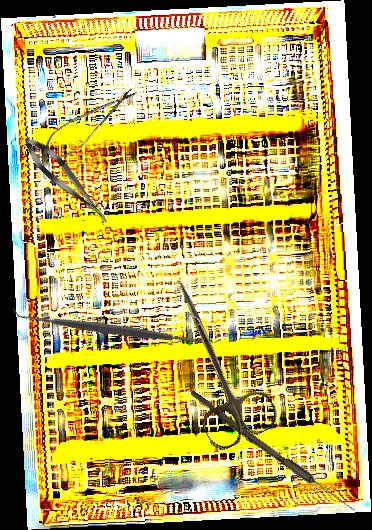Iris Scissors: (143, 269, 283, 454)
Micro Scissor: (29, 77, 144, 173), (18, 131, 115, 230)
Spatula Surgical: (12, 230, 212, 428)
Surgical Spoon: (187, 390, 358, 514)
